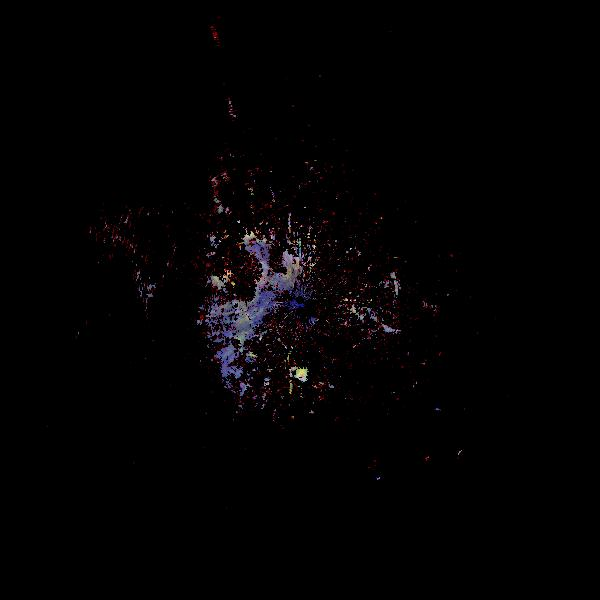roost: (292, 364, 313, 385), (392, 282, 404, 294)
